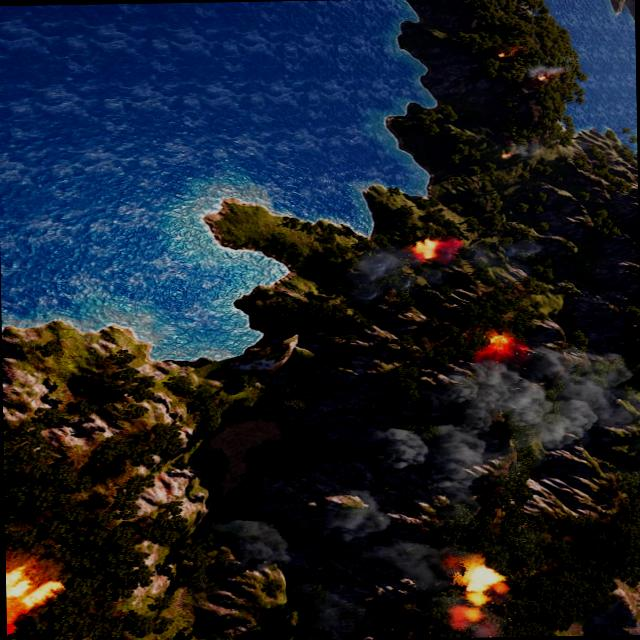fire: (5, 560, 68, 632), (456, 560, 508, 606), (409, 234, 462, 261), (473, 332, 525, 358), (536, 74, 548, 80), (495, 52, 507, 58), (502, 154, 509, 158)
smoke: (369, 344, 640, 503), (343, 237, 543, 310), (352, 539, 452, 595), (210, 516, 294, 580), (314, 488, 393, 544), (446, 602, 498, 638), (523, 63, 568, 82)
